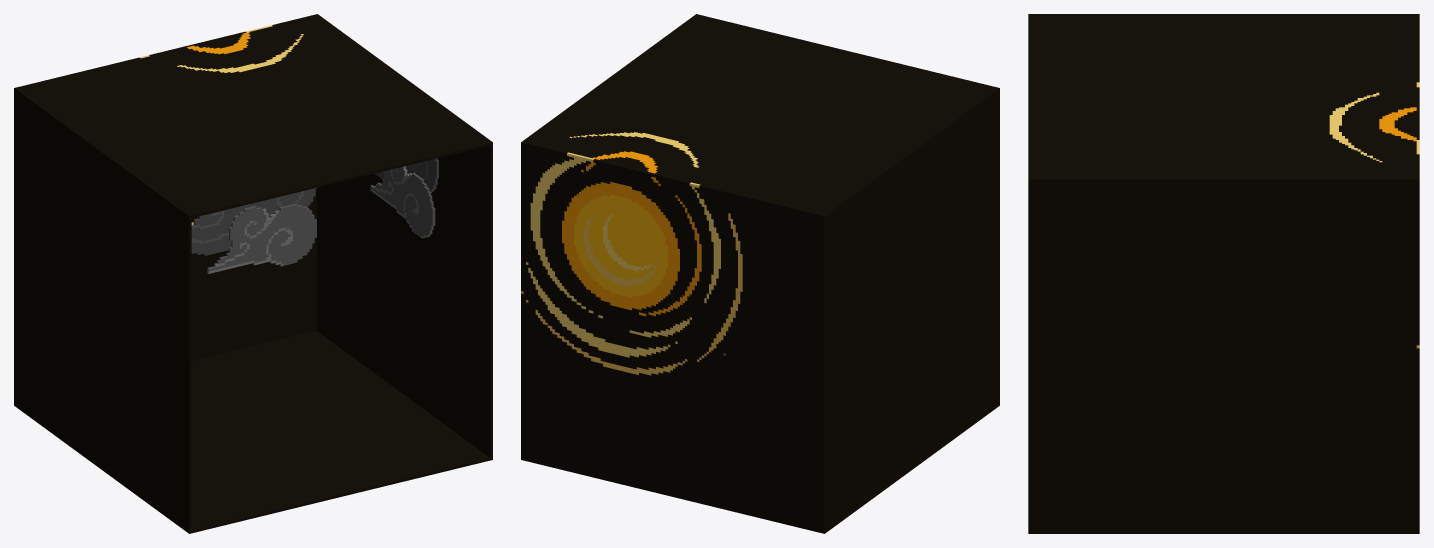
The model's file is select_stage_02.fbx.
3 renders of one model, left to right at view 1: azimuth 30°, elevation 25°; view 2: azimuth 150°, elevation 25°; view 3: azimuth 270°, elevation 25°, orthographic. The views are drawn at different scales.
Parts seen in each view (by area): view 1: select_stage_02:Mesh; view 2: select_stage_02:Mesh; view 3: select_stage_02:Mesh.
Part boxes in pixels (x1,y1,x2,y2): select_stage_02:Mesh: (14,14,492,533); select_stage_02:Mesh: (521,14,999,533); select_stage_02:Mesh: (1028,14,1419,533).
Size of the model in its own units: 126 by 126 by 126.
